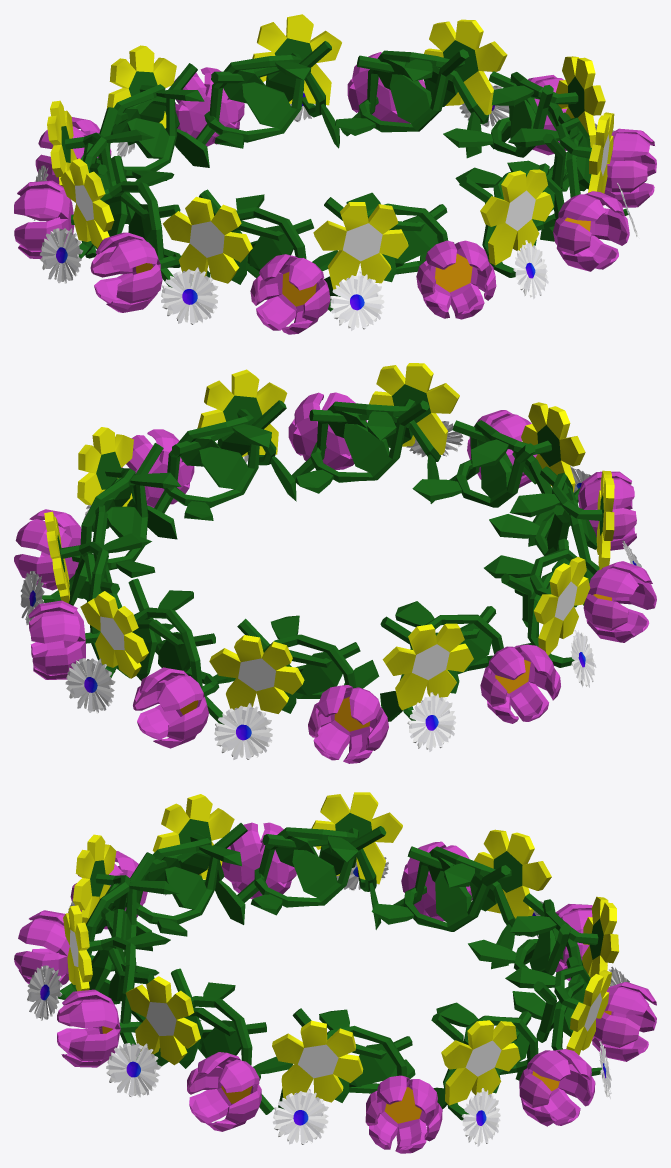
Rendered from floral_crown.glb.
3 renders of one model, top to bottom at view 1: azimuth 30°, elevation 25°; view 2: azimuth 150°, elevation 25°; view 3: azimuth 270°, elevation 25°, orthographic.
Visible parts, largest first — view 1: flowercrown; view 2: flowercrown; view 3: flowercrown.
Boxes of the visible parts, bbox=[...] form: flowercrown: bbox=[14, 14, 656, 334]; flowercrown: bbox=[14, 363, 656, 763]; flowercrown: bbox=[14, 792, 656, 1153].
Bounding box in the file's own units: 0.2914 × 0.0857 × 0.3038.
1 material, 1 textured.
